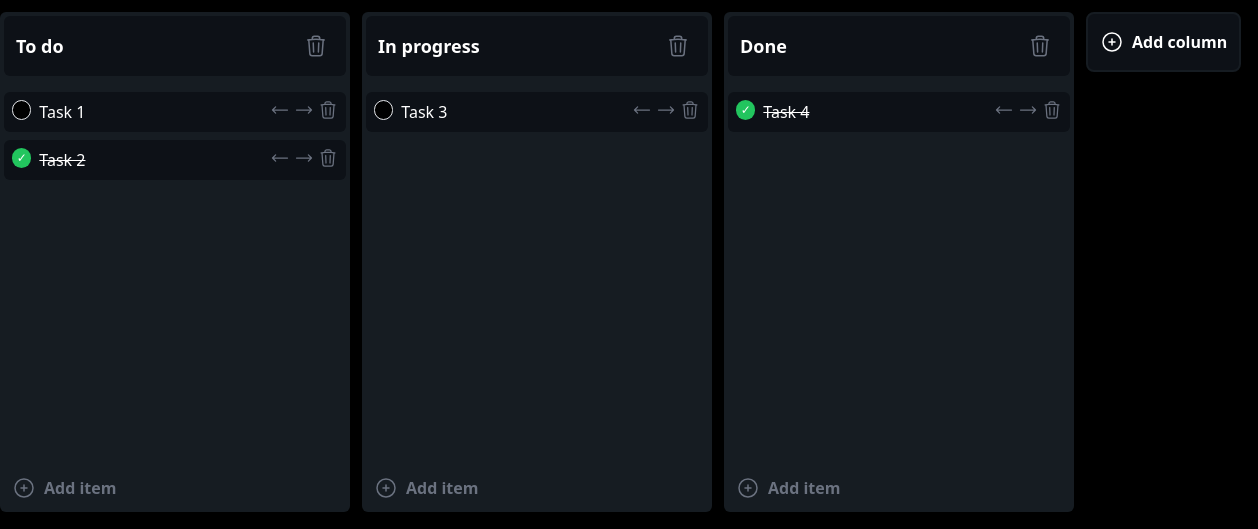
KanbanBoard › when the 'Add task' button is clicked › when the input is on blurred › shows the 'Add task' button
The width and height of the screenshot is (1258, 529).
Click the 2nd button "Add item" at (442, 488), box [366,468,708,508]
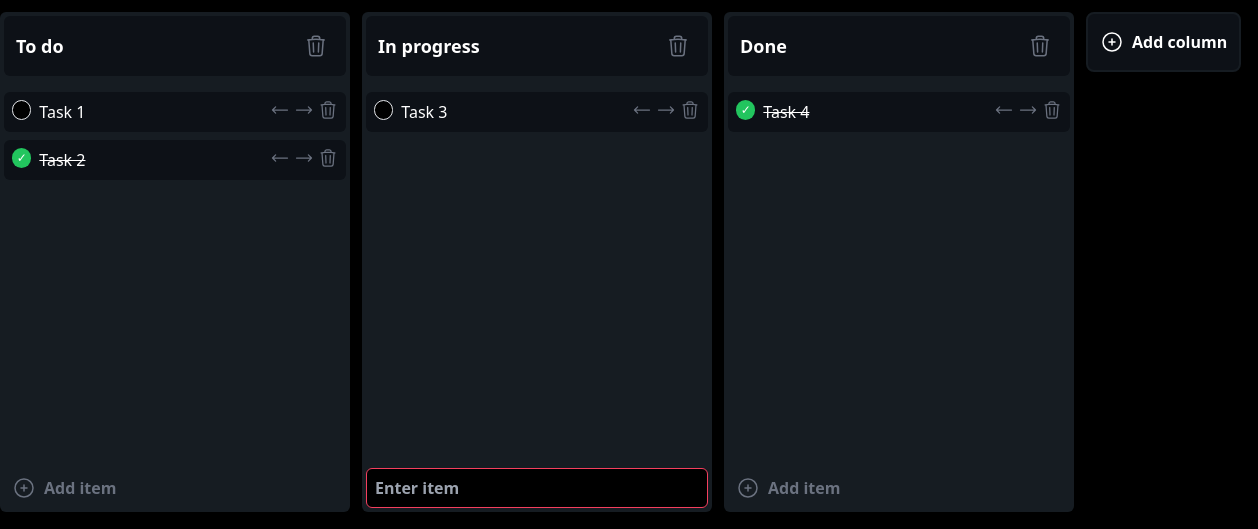
Type "New Task" into the field with placeholder "Enter item" at (537, 488), box [366,468,708,508]
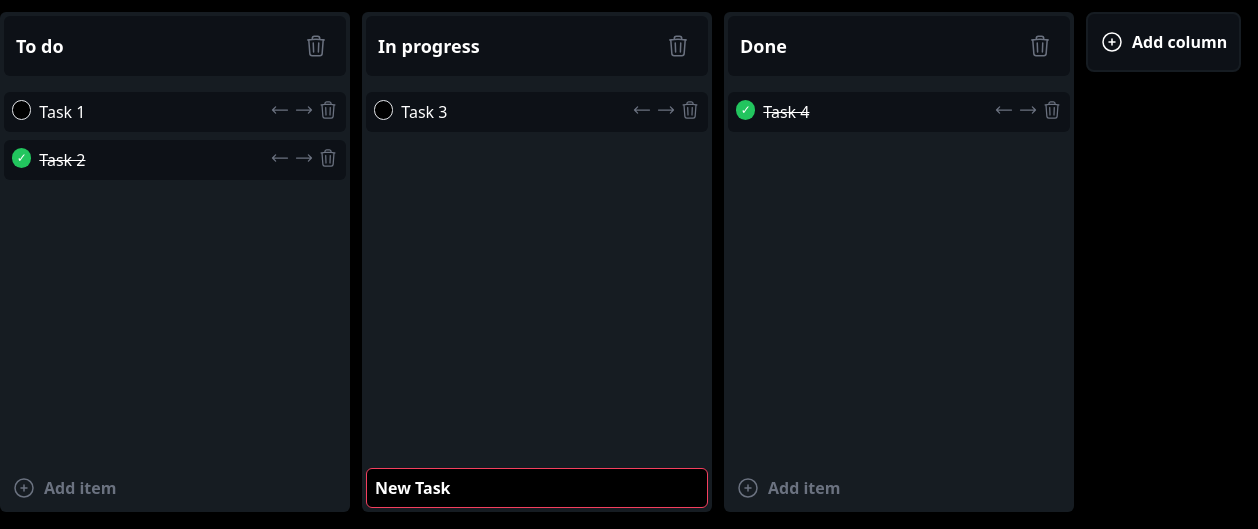
Press Tab
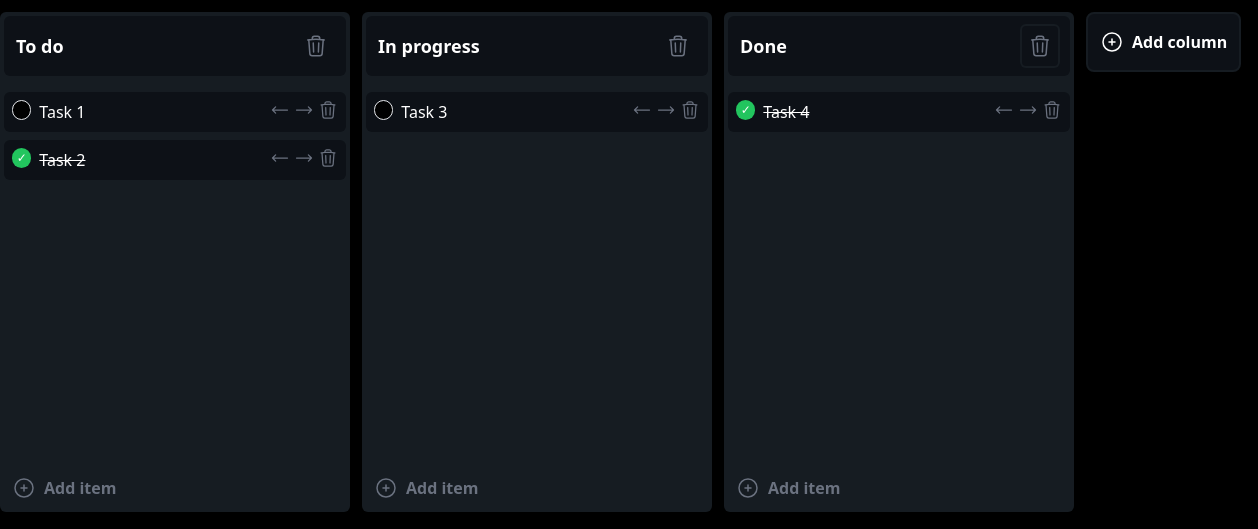
Expected: the text "New Task" is not shown
Now the 2nd button "Add item" is shown, box [366,468,708,508]
